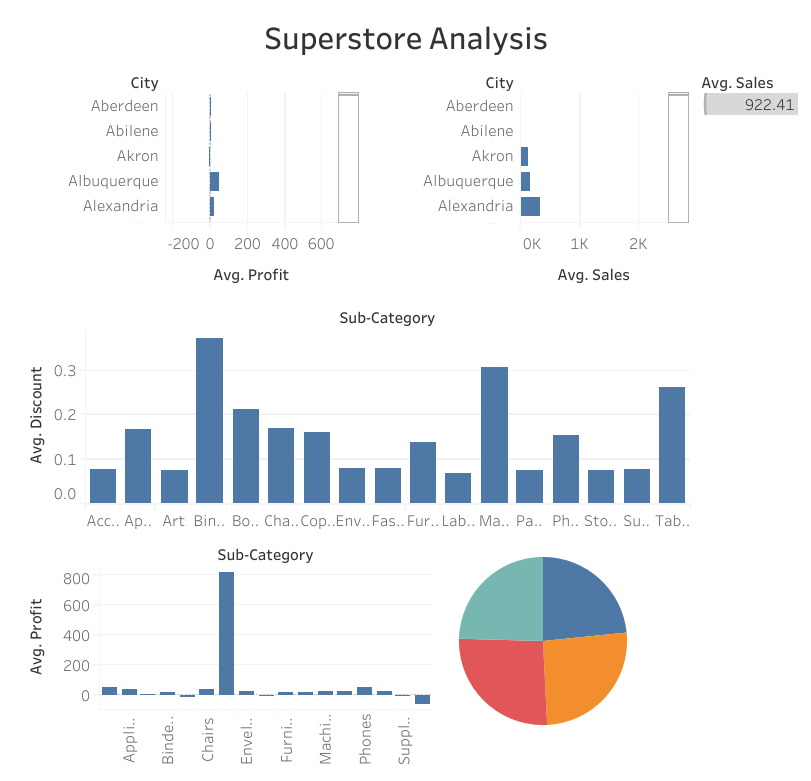

Layout of this report page (visuals, bound fields, positions):
{"tool":"tableau","page":{"name":"Dashboard 1","canvas":[650,860],"ordinal":0},"visuals":[{"type":"title","box":[8,10.1,634,51.8]},{"type":"worksheet","title":"Sheet 1","mark":"Automatic","rows":["City"],"cols":["Profit"],"box":[8,62,283.9,262.6]},{"type":"worksheet","title":"Sheet 2","mark":"Automatic","rows":["City"],"cols":["Sales"],"box":[291.9,62,264.1,262.6]},{"type":"legend","title":"Sheet 4","param":"[federated.1em3o6i0kv1dwu10j3bly0q2sezs].[avg:Sales:qk]","box":[556,62,86,67]},{"type":"worksheet","title":"Sheet 5","mark":"Automatic","rows":["Discount"],"cols":["Sub-Category"],"box":[8,324.6,548,262.6]},{"type":"worksheet","title":"Sheet 3","mark":"Automatic","rows":["Profit"],"cols":["Sub-Category"],"box":[8,587.2,342,262.6]},{"type":"worksheet","title":"Sheet 4","mark":"Pie","box":[350,587.2,206,262.6]}]}

Visuals, with their boxes in screenshot pixels (x1, y1, x2, y2):
title: [210,2,758,47]
"Sheet 1" worksheet: [210,47,455,274]
"Sheet 2" worksheet: [455,47,683,274]
"Sheet 4" legend: [683,47,758,105]
"Sheet 5" worksheet: [210,274,683,501]
"Sheet 3" worksheet: [210,501,505,728]
"Sheet 4" worksheet (Pie marks): [505,501,683,728]
